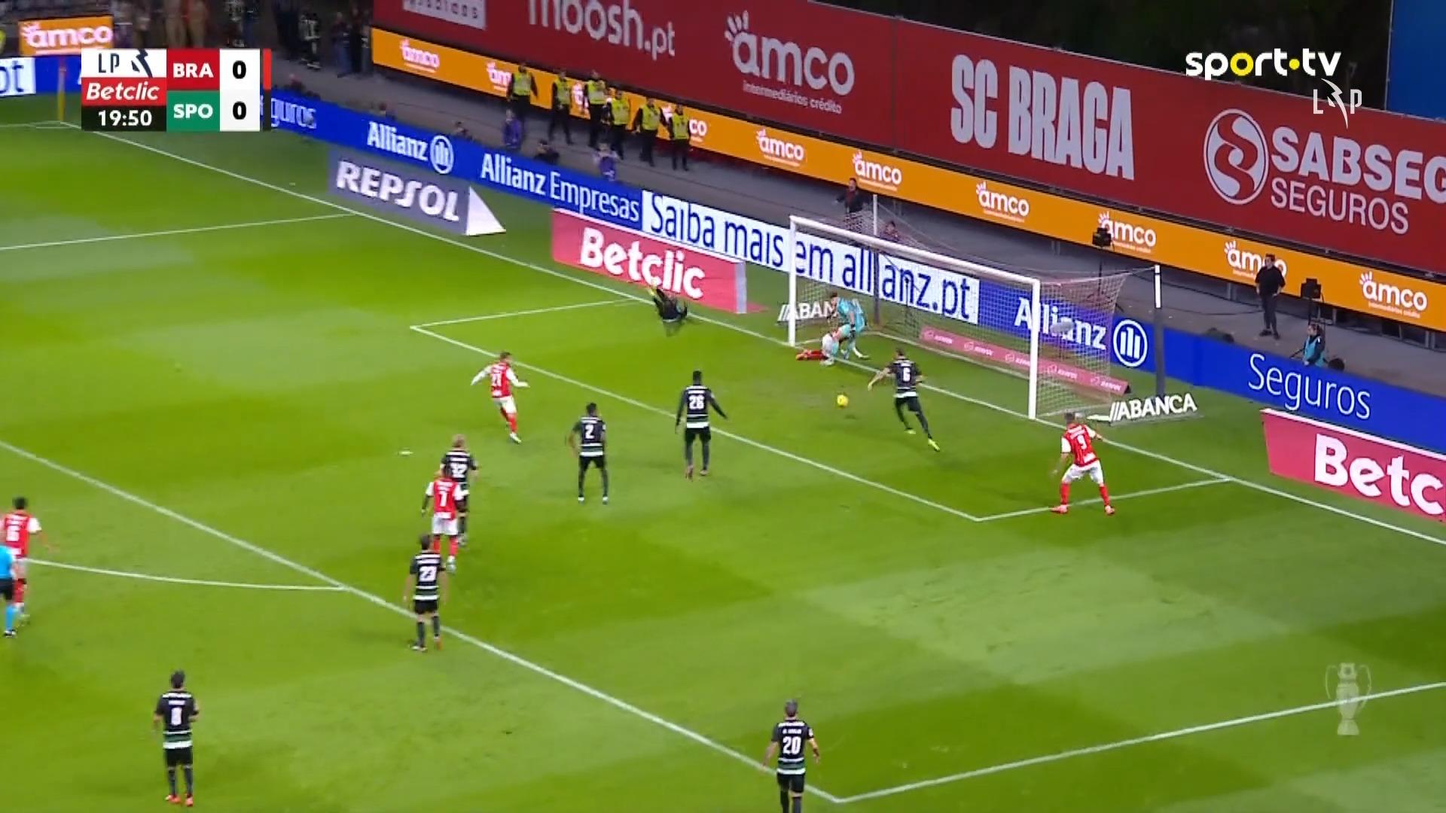ball: (836, 394, 848, 408)
goalkeeper: (825, 291, 870, 360)
player: (867, 346, 940, 452), (1048, 409, 1115, 515), (151, 668, 200, 806), (762, 698, 821, 811), (1, 495, 47, 627), (673, 369, 728, 479), (469, 349, 530, 443), (401, 532, 448, 652), (419, 463, 465, 572), (566, 401, 610, 504), (439, 434, 479, 546), (795, 321, 854, 365), (644, 279, 688, 336)
referee: (0, 542, 24, 636)
